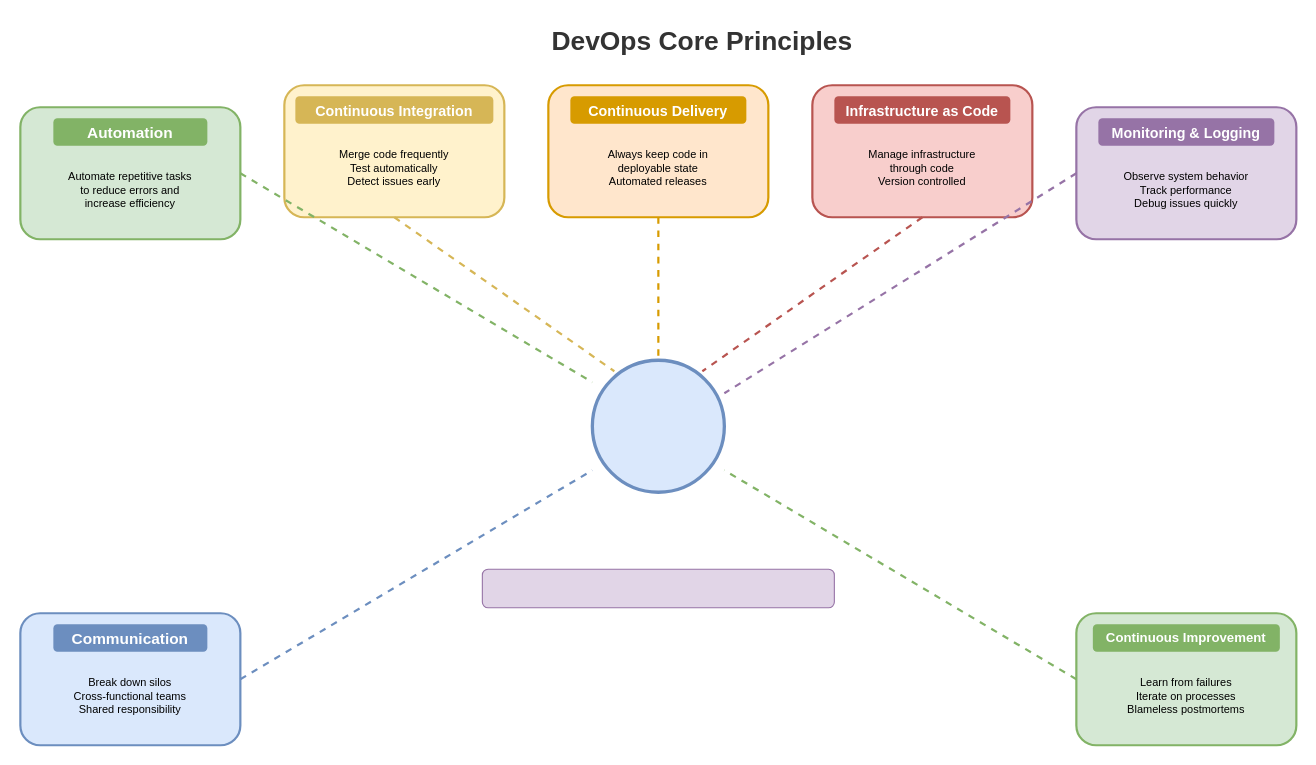
This 1316x765 diagram has some shape labels left out. The centre of each missing label's shape, as x and y in pixels:
DevOps: the point at 657,425
DevOps is about Culture, not just Tools: the point at 657,588
